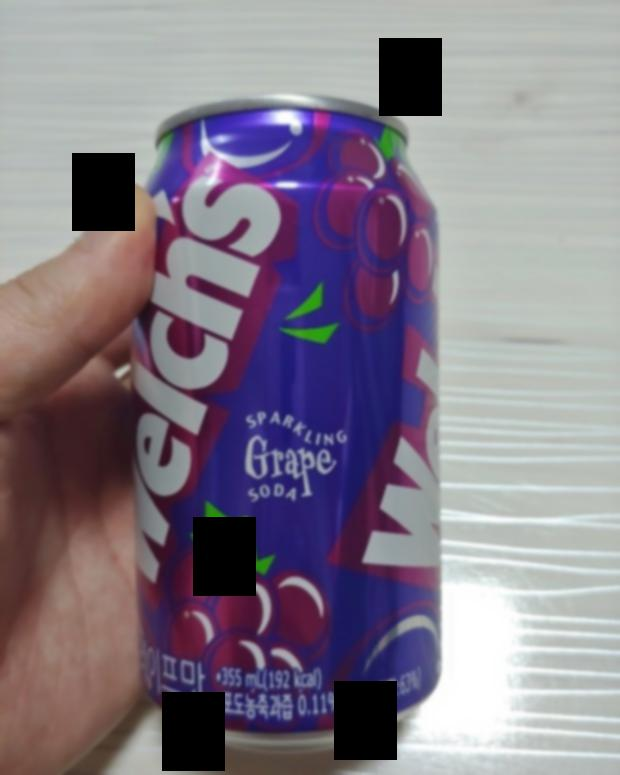welchs_grape: (137, 93, 471, 756)
